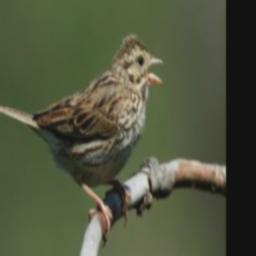Sparrow: (0, 31, 166, 248)
